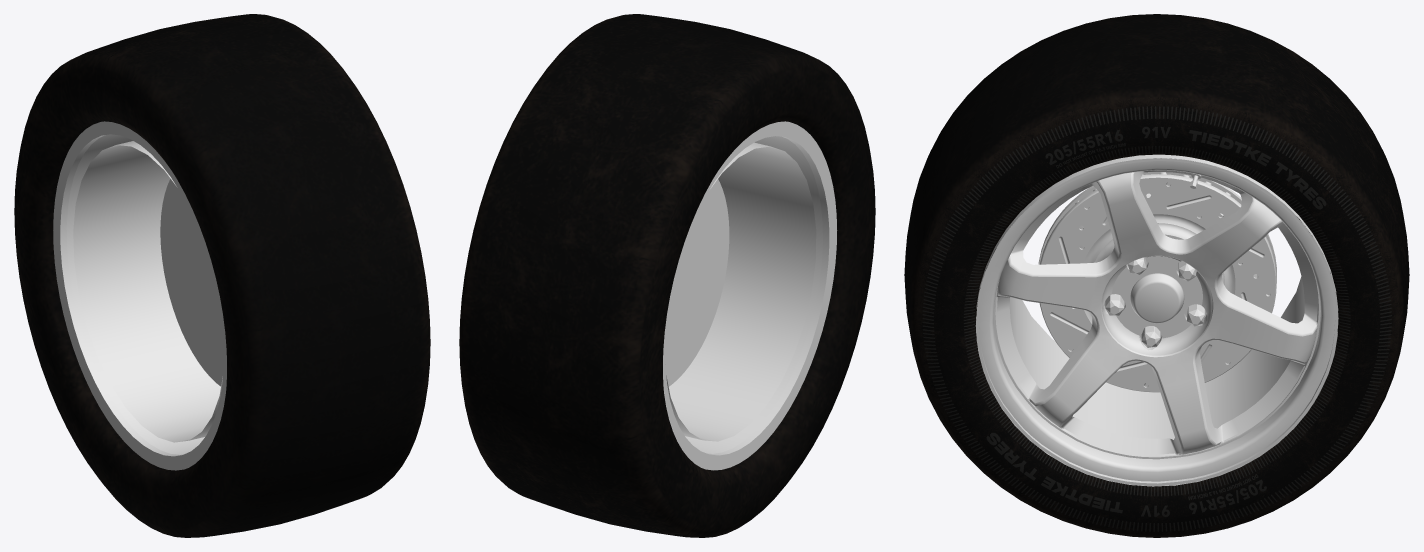
Rendered from CIVIC Wheels.glb.
3 views of the same model, side by side, from view 1: azimuth 30°, elevation 25°; view 2: azimuth 150°, elevation 25°; view 3: azimuth 270°, elevation 25° (orthographic).
Visible parts, largest first — view 1: Wheel_FL; view 2: Wheel_FL; view 3: Wheel_FL.
Part boxes in pixels (x1,y1,x2,y2): Wheel_FL: [14, 14, 430, 537]; Wheel_FL: [459, 14, 875, 537]; Wheel_FL: [904, 14, 1409, 537].
Bounding box in the file's own units: 0.2449 × 0.579 × 0.579.
2 materials, 1 textured.
